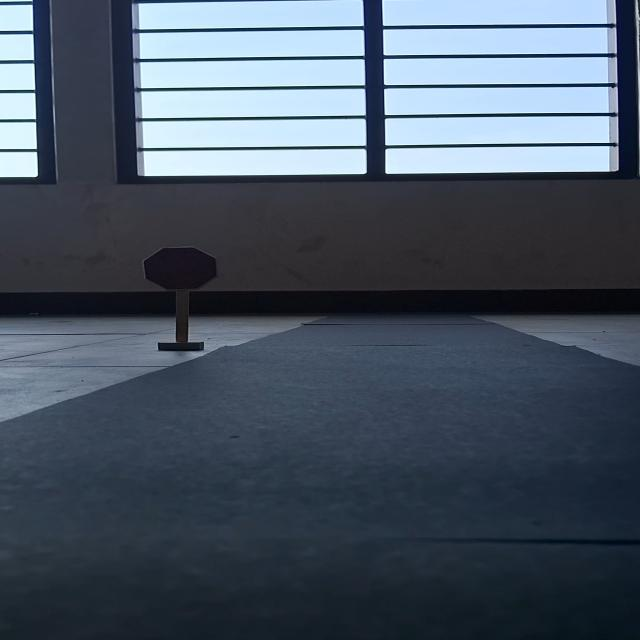Stop: (143, 247, 219, 290)
